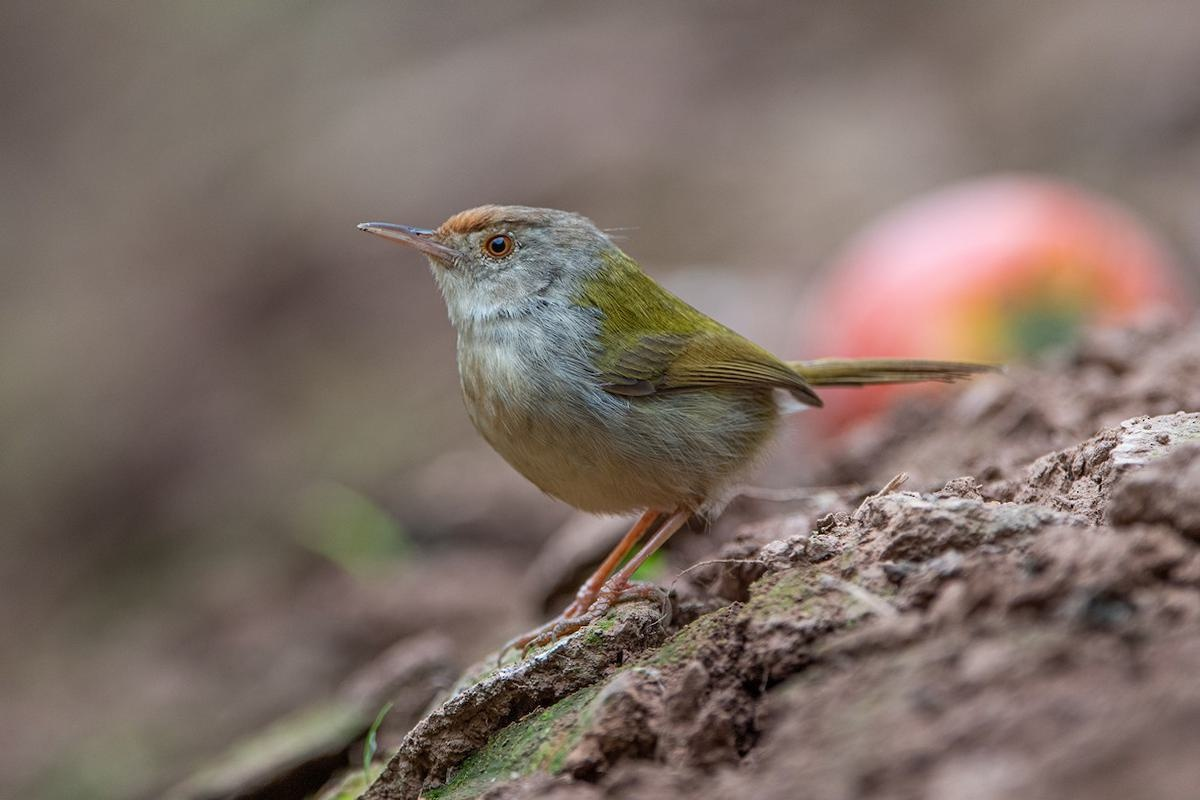tailorbird: (315, 166, 960, 561)
